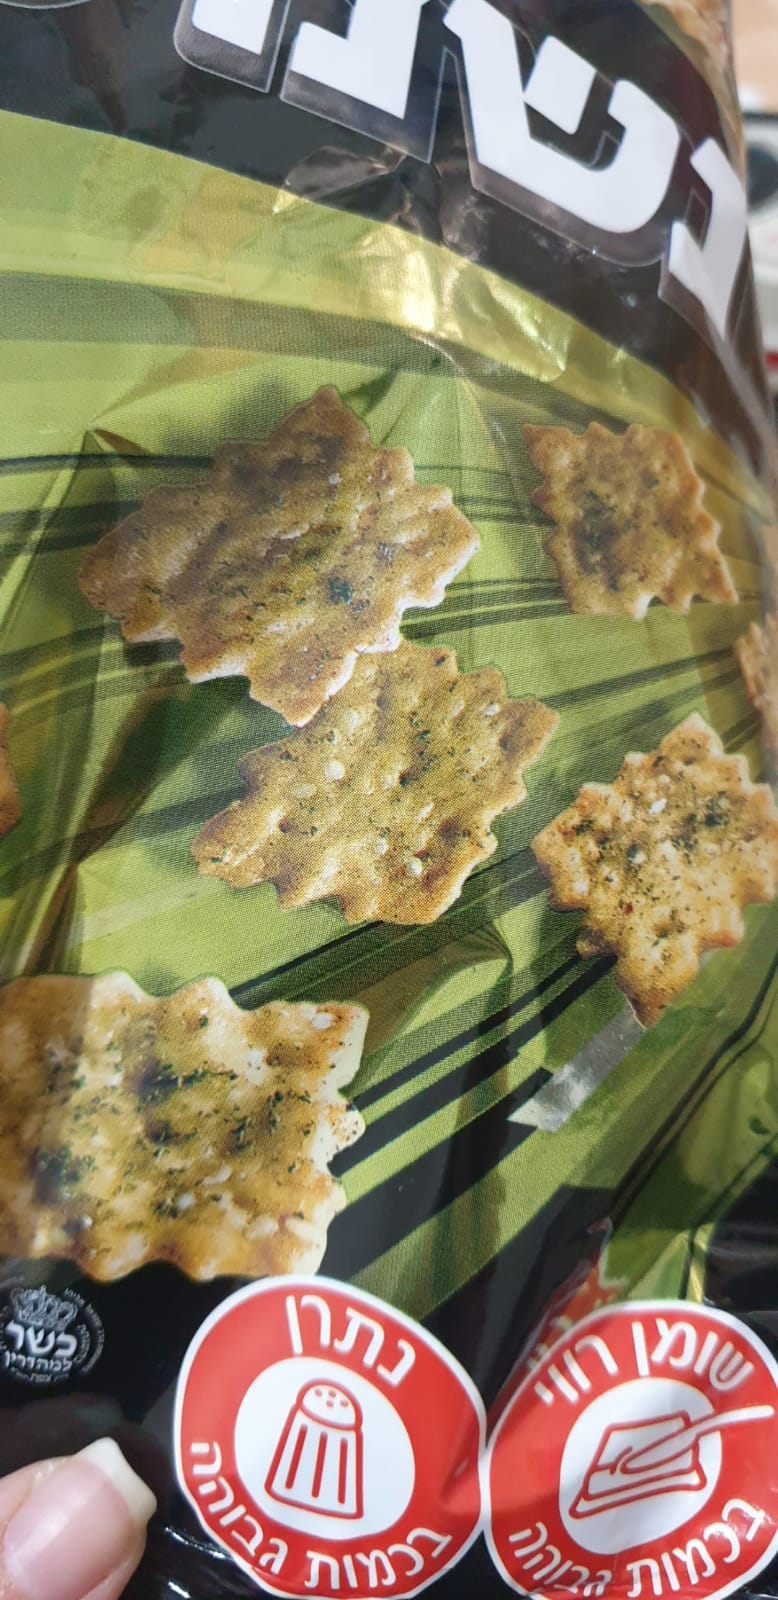fat: (476, 1298, 777, 1600)
salt: (173, 1278, 488, 1600)
